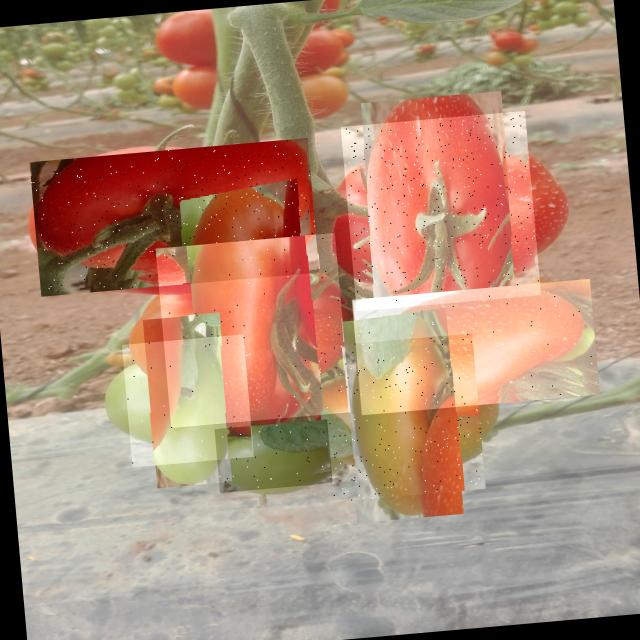Ripe Tomato: (29, 138, 319, 296), (340, 110, 540, 310), (155, 233, 350, 428), (352, 278, 600, 414)
Unripe Tomato: (316, 333, 486, 502), (122, 334, 254, 467), (214, 418, 332, 492)
